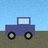vehicle: (5, 17, 35, 39)
